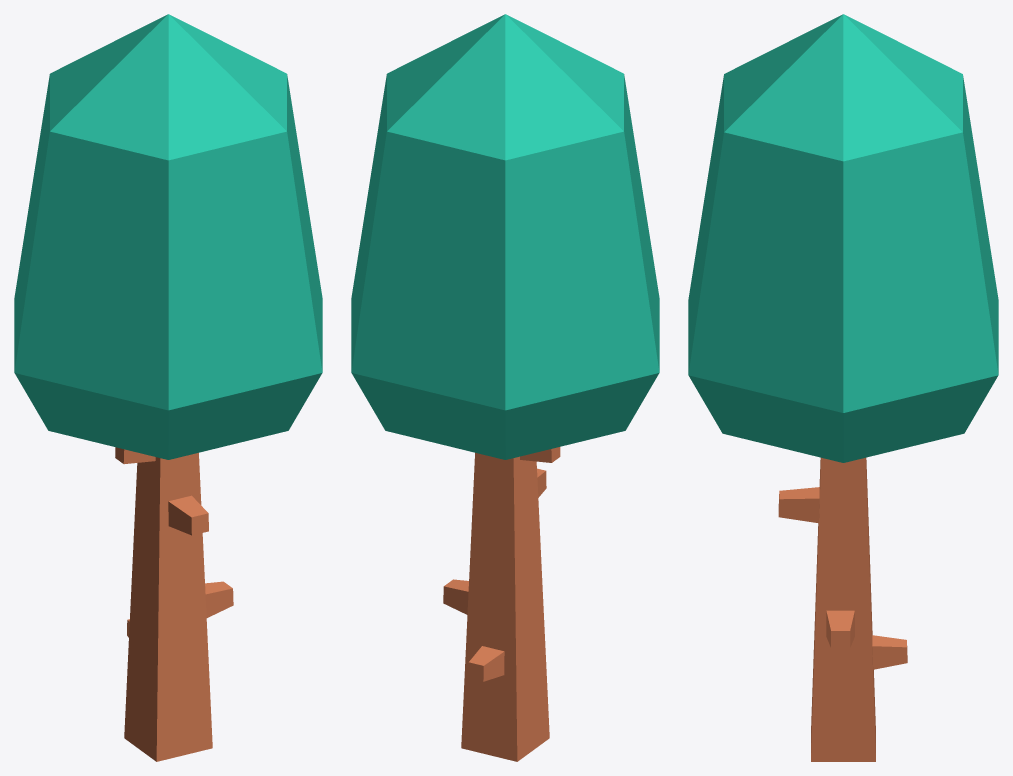
The model's file is tree_default.dae.
The picture shows the model from 3 angles, left to right: view 1: azimuth 30°, elevation 25°; view 2: azimuth 150°, elevation 25°; view 3: azimuth 270°, elevation 25°; orthographic projection.
Visible parts, largest first — view 1: tree_default; view 2: tree_default; view 3: tree_default.
Part boxes in pixels (left/top/right/bottom): tree_default: left=14, top=14, right=322, bottom=761; tree_default: left=351, top=14, right=659, bottom=761; tree_default: left=688, top=14, right=998, bottom=761.
Bounding box in the file's own units: 0.755 × 1.71 × 0.6539.
